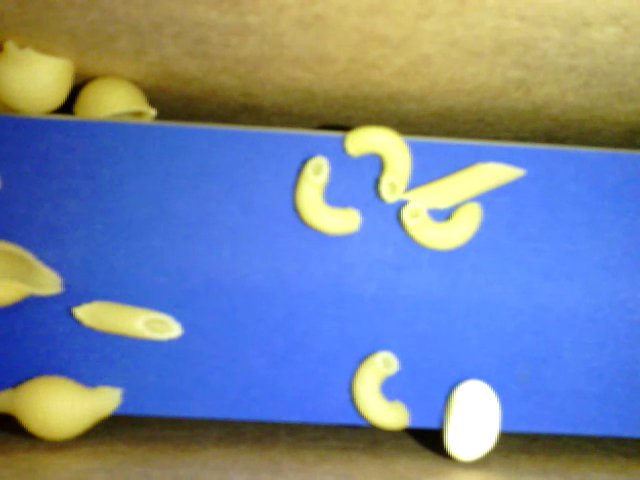elbow: (289, 155, 359, 235), (353, 346, 411, 432), (401, 196, 484, 254), (344, 125, 407, 200)
penne: (400, 160, 525, 214), (70, 298, 183, 346)
shell: (1, 357, 124, 449), (1, 230, 67, 321), (1, 40, 77, 117), (75, 72, 151, 125)
